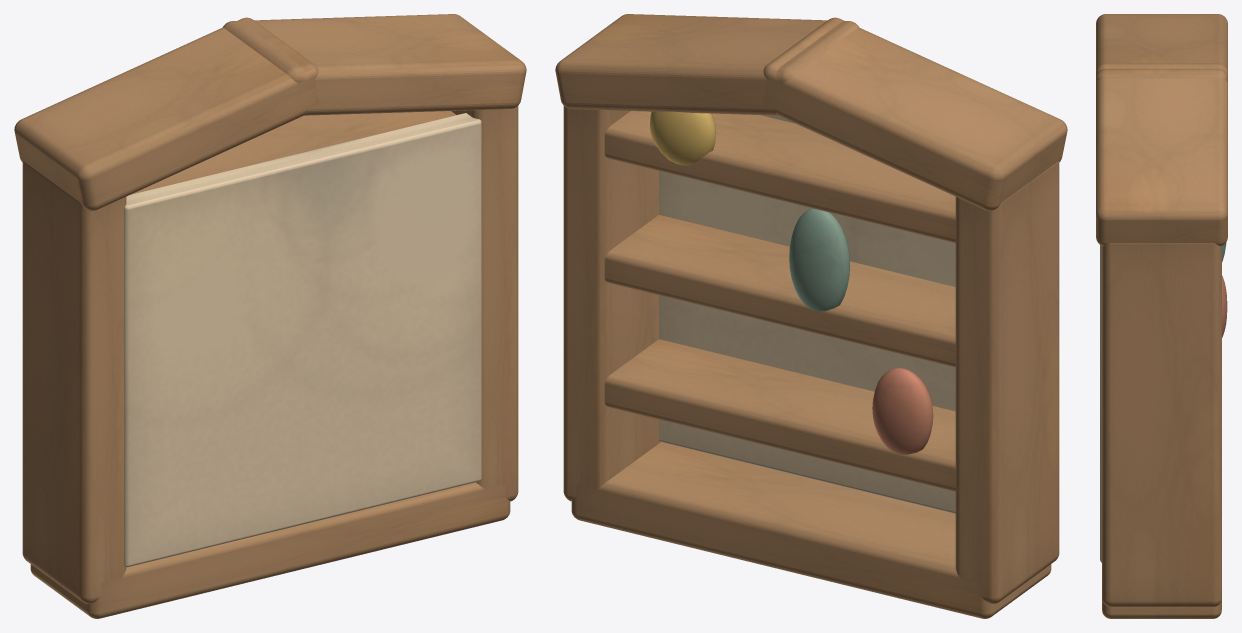
File: shelf-cabin.glb
3 views of the same model, side by side, from view 1: azimuth 30°, elevation 25°; view 2: azimuth 150°, elevation 25°; view 3: azimuth 270°, elevation 25° (orthographic). The views are drawn at different scales.
Parts seen in each view (by area): view 1: cream, wood (×6); view 2: wood (×8), cream, sage, coral, yellow; view 3: wood (×4), cream, coral.
Boxes of the visible parts, x1,y1,x2,y2 form: cream: [124, 113, 481, 567]; wood (×6): [14, 14, 526, 618]; wood (×8): [555, 14, 1067, 618]; cream: [659, 115, 955, 513]; sage: [789, 208, 850, 311]; coral: [872, 367, 933, 454]; yellow: [650, 111, 716, 165]; wood (×4): [1096, 14, 1227, 618]; cream: [1100, 245, 1101, 562]; coral: [1222, 275, 1227, 337].
Bounding box in the file's own units: 1.51 × 1.63 × 0.4216.
Materials: 5 (5 with a texture image).
